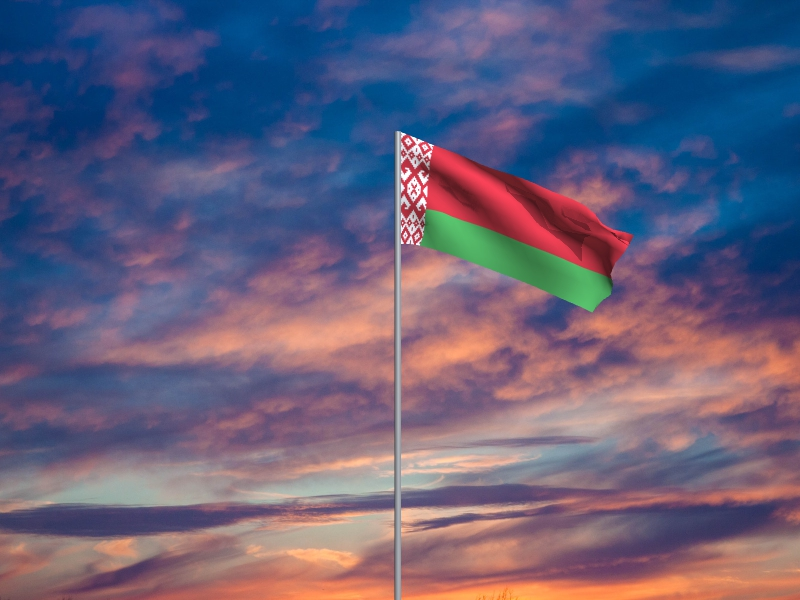by: (401, 133, 636, 314)
